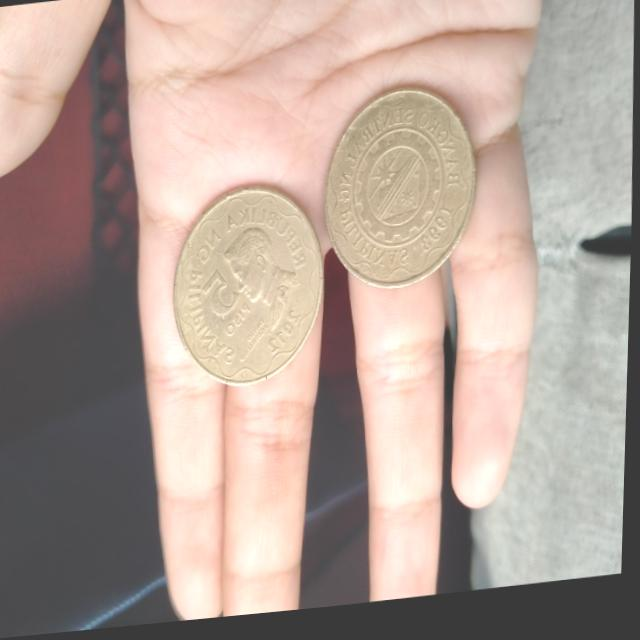5_Old_Back: (322, 86, 483, 298)
5_Old_Front: (196, 257, 259, 352)
